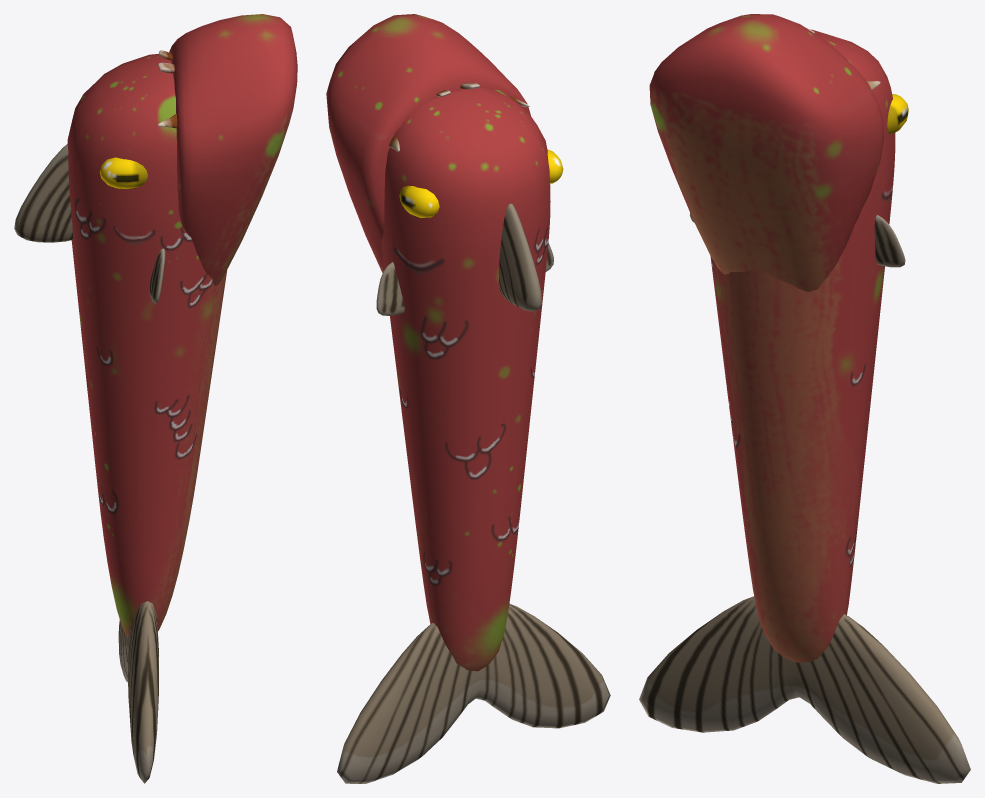
Rendered from FishFBX.fbx.
3 views of the same model, side by side, from view 1: azimuth 30°, elevation 25°; view 2: azimuth 150°, elevation 25°; view 3: azimuth 270°, elevation 25° (orthographic). The views are drawn at different scales.
Parts seen in each view (by area): view 1: Fish; view 2: Fish; view 3: Fish.
Boxes of the visible parts, x1,y1,x2,y2 form: Fish: (14, 14, 297, 783); Fish: (326, 14, 610, 783); Fish: (639, 14, 970, 783).
Bounding box in the file's own units: 173 × 482 × 185.
